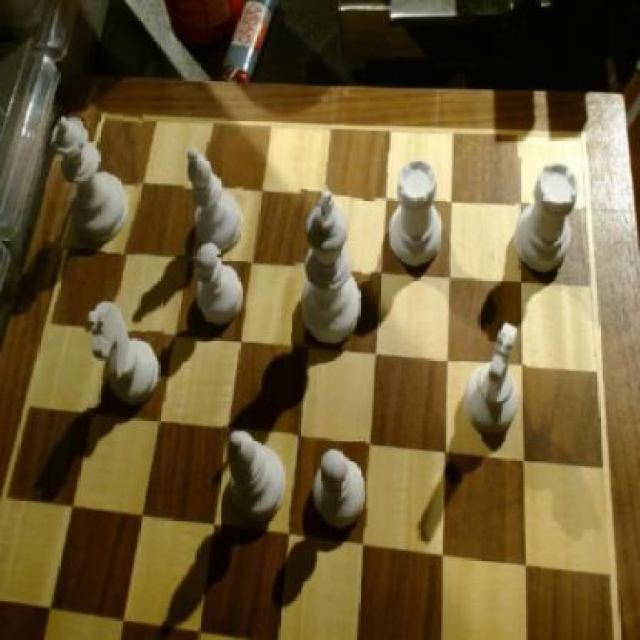black-rook: (223, 426, 294, 529), (185, 141, 247, 257)
white-bishop: (294, 186, 374, 352)
white-king: (85, 294, 166, 408), (458, 317, 526, 440)
white-knight: (312, 443, 370, 532), (188, 242, 248, 328)
white-pawn: (45, 108, 142, 254)
white-queen: (514, 158, 583, 272), (388, 152, 448, 270)
